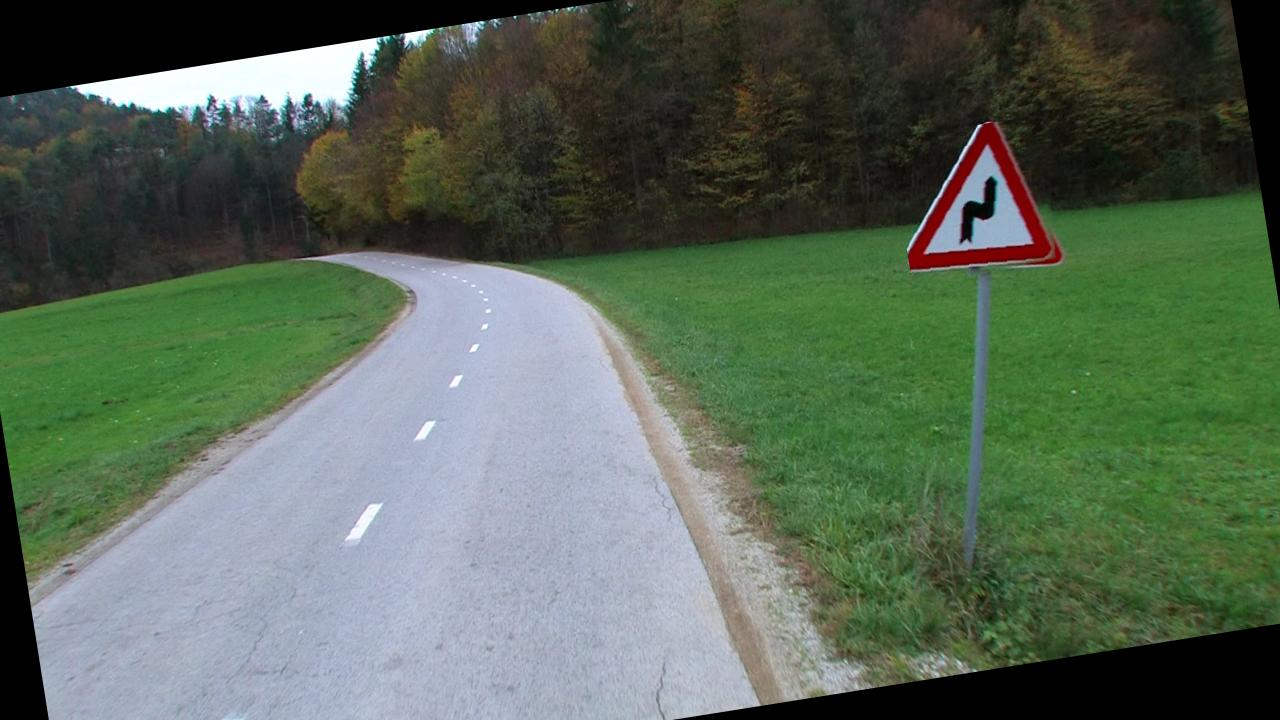Triangle: (889, 114, 1068, 288)
